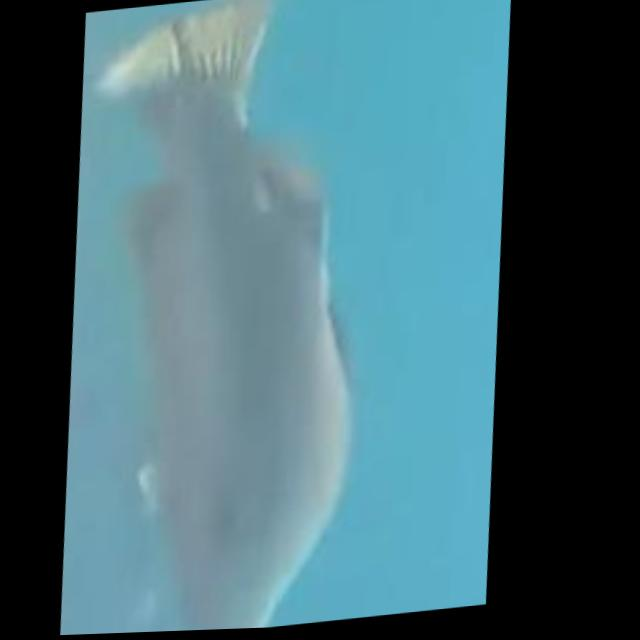Seabass: (19, 0, 412, 637)
